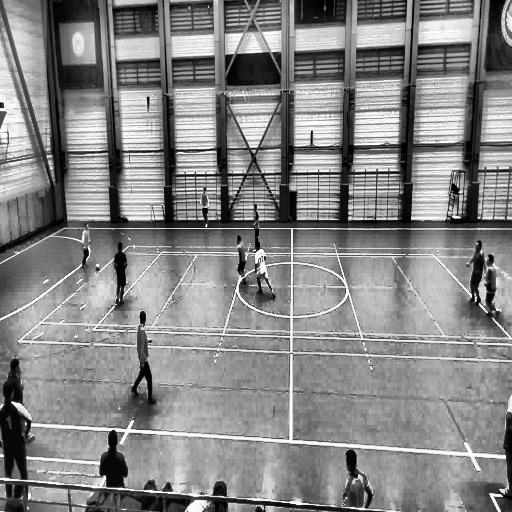ball: (95, 263, 100, 271)
player: (1, 380, 30, 506), (132, 312, 156, 404), (342, 449, 372, 508), (254, 240, 275, 298), (466, 240, 484, 305), (484, 253, 500, 319), (113, 241, 127, 305), (236, 235, 247, 286), (81, 223, 90, 268), (201, 187, 209, 227), (253, 204, 260, 244)
